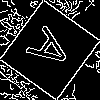A: (25, 24, 83, 80)
